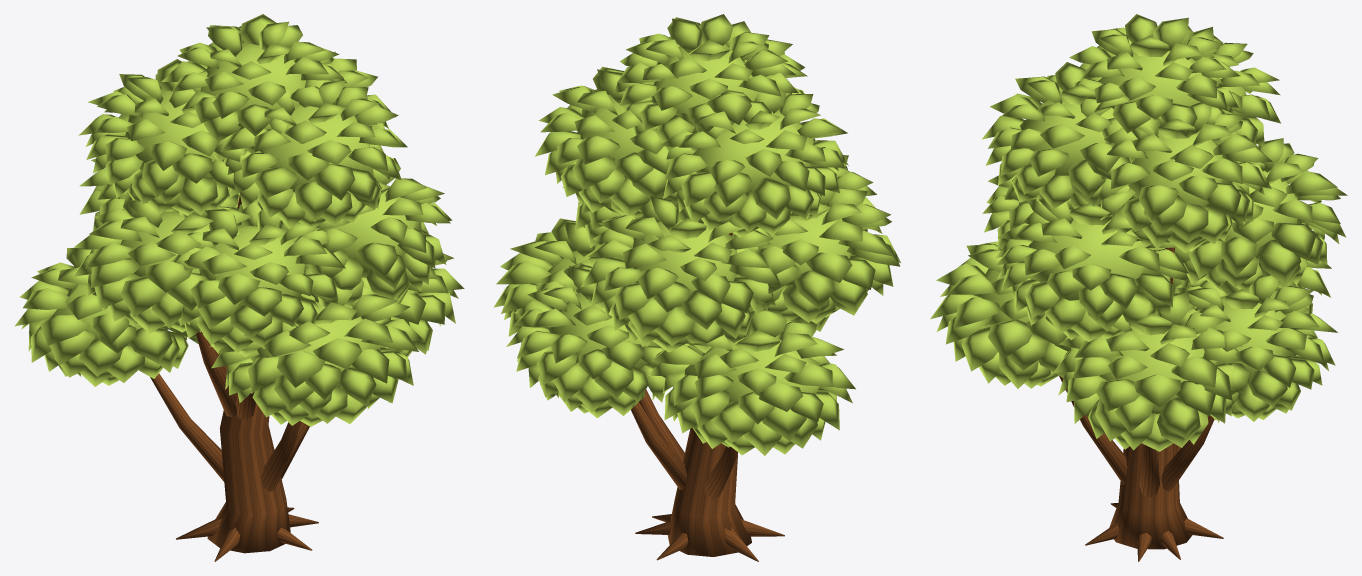
Rendered from VerdantOak.fbx.
3 renders of one model, left to right at view 1: azimuth 30°, elevation 25°; view 2: azimuth 150°, elevation 25°; view 3: azimuth 270°, elevation 25°, orthographic.
Parts seen in each view (by area): view 1: SM_VerdantOak_Foliage_LOD0, SM_VerdantOak_Bark_LOD0; view 2: SM_VerdantOak_Foliage_LOD0, SM_VerdantOak_Bark_LOD0; view 3: SM_VerdantOak_Foliage_LOD0, SM_VerdantOak_Bark_LOD0.
Part boxes in pixels (box(x1,y1,x2,y2)): SM_VerdantOak_Foliage_LOD0: box(15, 14, 464, 426); SM_VerdantOak_Bark_LOD0: box(150, 195, 318, 561); SM_VerdantOak_Foliage_LOD0: box(493, 14, 900, 455); SM_VerdantOak_Bark_LOD0: box(631, 232, 784, 561); SM_VerdantOak_Foliage_LOD0: box(930, 14, 1347, 451); SM_VerdantOak_Bark_LOD0: box(1059, 247, 1223, 561).
Size of what is drawn, in the model's own units: 6.13 by 7.83 by 5.85.
Materials: 2 (1 with a texture image).
